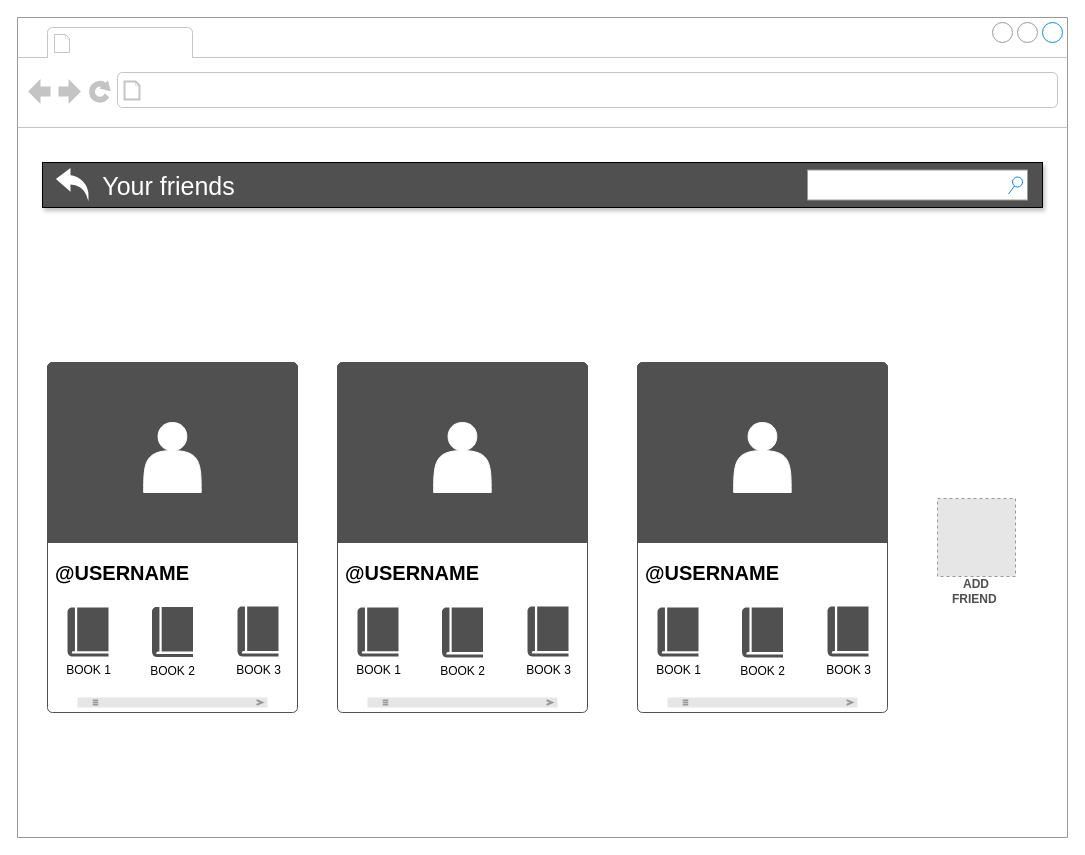
This 1085x855 diagram has some shape labels left out. Grey dashed boxes stand in for pictures. The centre of each missing label's shape, as x and y in pixels:
"https://www.BookWorld.com" goes at pixel 272 90.
"Page 2" goes at pixel 132 42.
"Search" goes at pixel 917 184.
